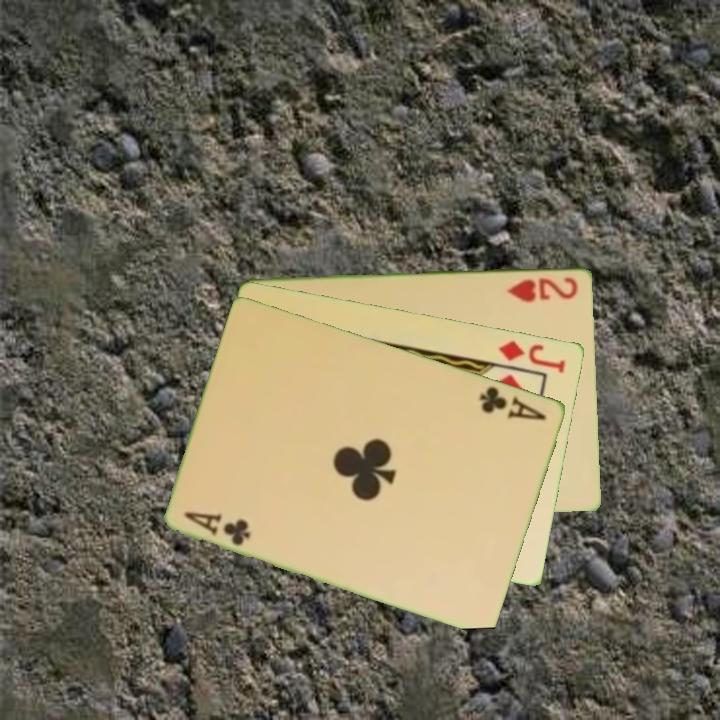2h: (504, 273, 581, 304)
Ac: (181, 507, 254, 549), (476, 382, 550, 423)
Jd: (495, 336, 569, 375)
